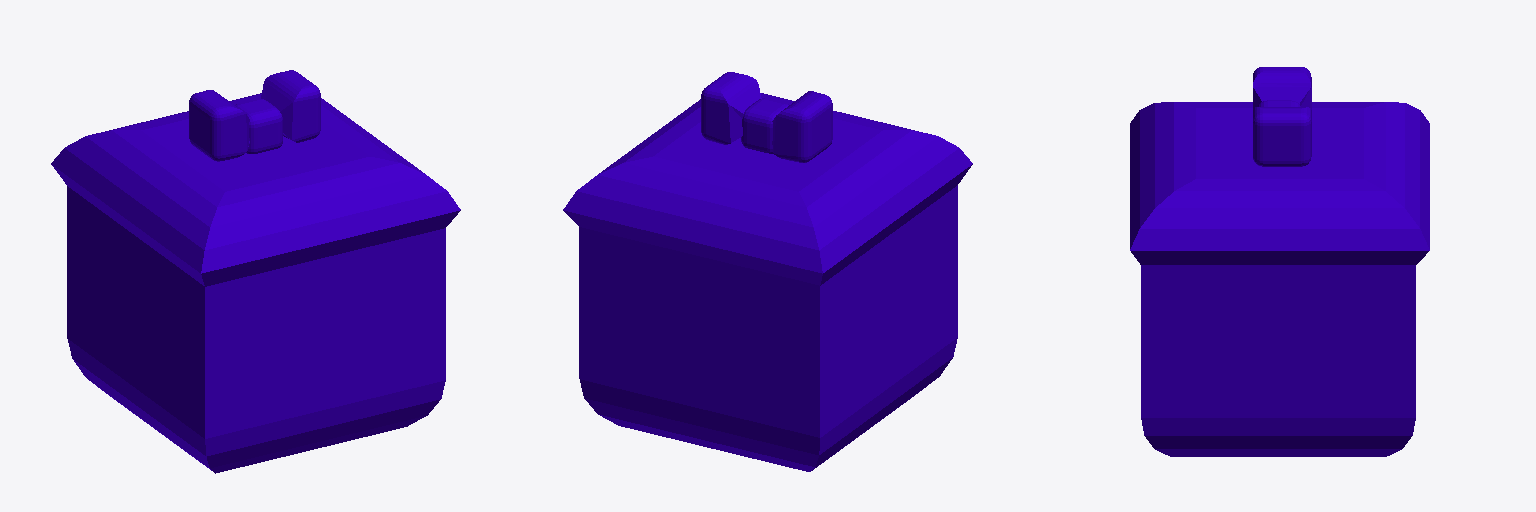
The model's file is present.obj.
3 views of the same model, side by side, from view 1: azimuth 30°, elevation 25°; view 2: azimuth 150°, elevation 25°; view 3: azimuth 270°, elevation 25° (orthographic).
Parts seen in each view (by area): view 1: Cube; view 2: Cube; view 3: Cube.
Boxes of the visible parts, x1=… form: Cube: x1=51, y1=70, x2=460, y2=473; Cube: x1=563, y1=72, x2=972, y2=471; Cube: x1=1130, y1=67, x2=1429, y2=456.
Bounding box in the file's own units: 1.96 × 2.38 × 1.96.